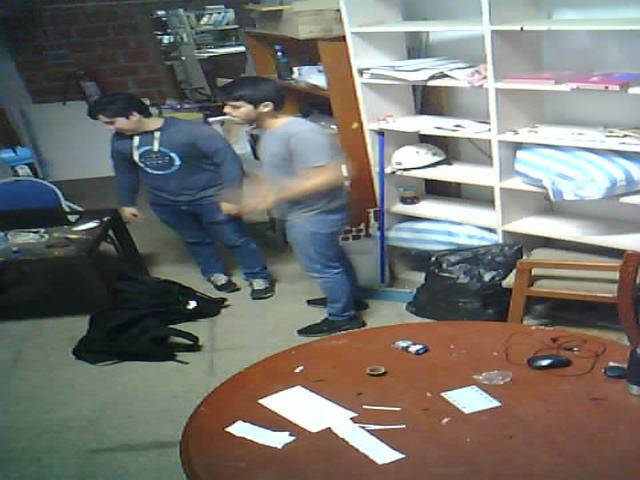person: (201, 44, 406, 355), (69, 89, 280, 316)
